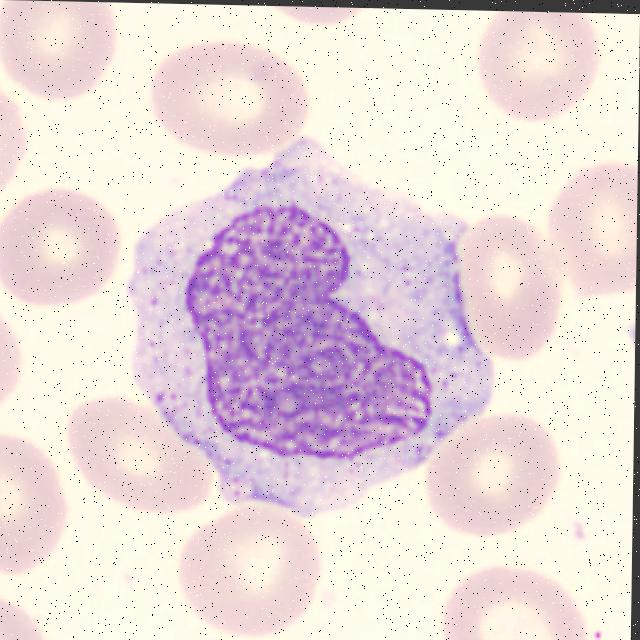monocyte: (107, 119, 521, 513)
rbc: (146, 30, 313, 174), (419, 406, 570, 544), (170, 502, 325, 636), (62, 385, 200, 522), (0, 169, 122, 305), (469, 10, 594, 137), (6, 0, 147, 110), (452, 216, 562, 356), (547, 148, 638, 305), (432, 559, 583, 640), (0, 420, 64, 576), (0, 304, 45, 417)
